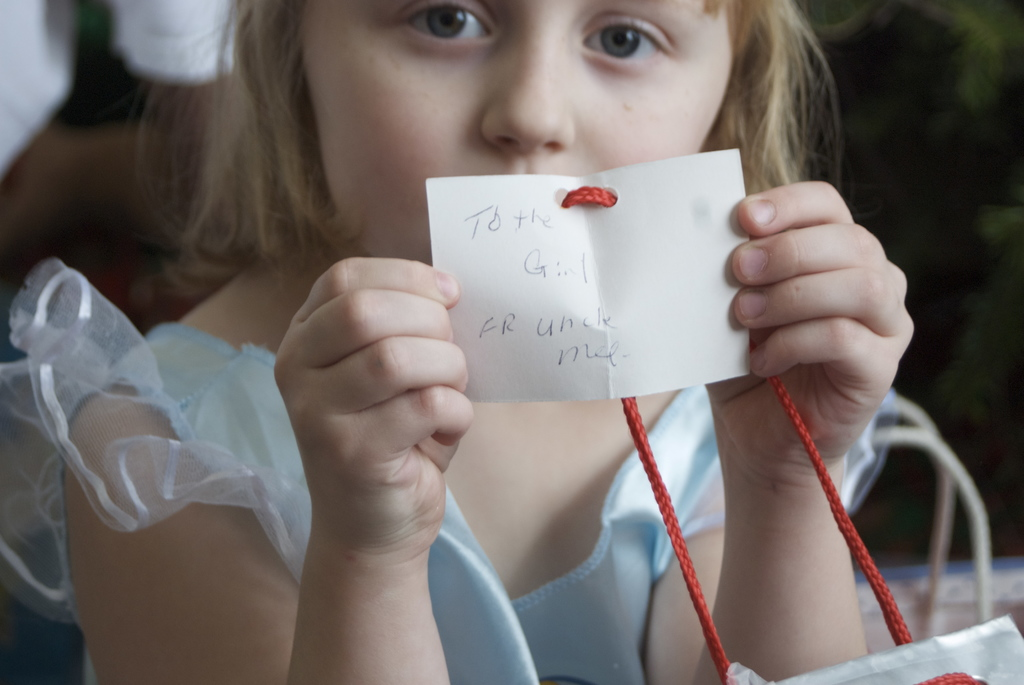face: (310, 0, 726, 322)
